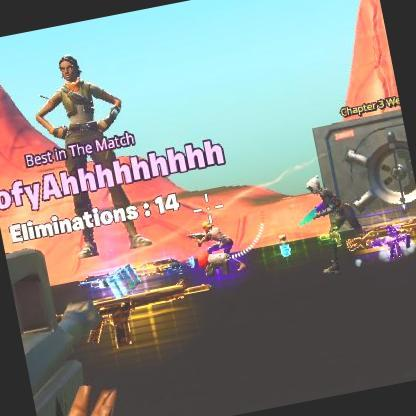person: (25, 47, 128, 151), (293, 182, 363, 245), (194, 219, 232, 267)
